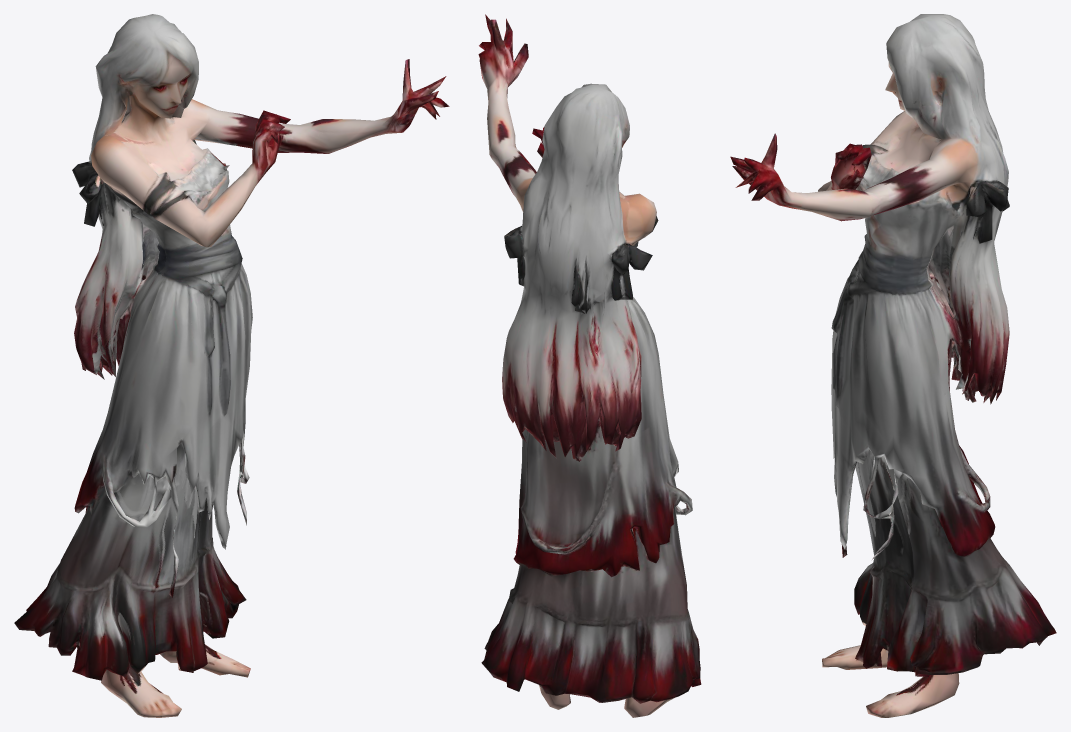
Rendered from Blood Hag (small).glb.
The picture shows the model from 3 angles, left to right: view 1: azimuth 30°, elevation 25°; view 2: azimuth 150°, elevation 25°; view 3: azimuth 270°, elevation 25°; orthographic projection. The views are drawn at different scales.
Parts seen in each view (by area): view 1: Mesh1.0; view 2: Mesh1.0; view 3: Mesh1.0.
Boxes of the visible parts, x1,y1,x2,y2 form: Mesh1.0: (14, 14, 449, 717); Mesh1.0: (478, 14, 701, 717); Mesh1.0: (730, 14, 1056, 717).
Bounding box in the file's own units: 1 × 1.91 × 0.8494.
1 material, 1 textured.
